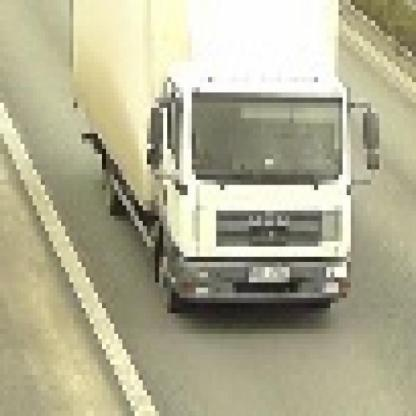truck: (74, 1, 384, 314)
